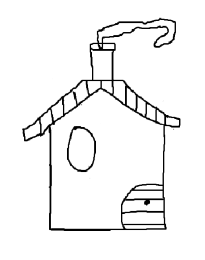door: (115, 176, 170, 234)
open_window: (67, 126, 96, 172)
roof: (22, 79, 178, 142)
smoking_chimney: (84, 11, 182, 83)
wall: (44, 98, 170, 235)
